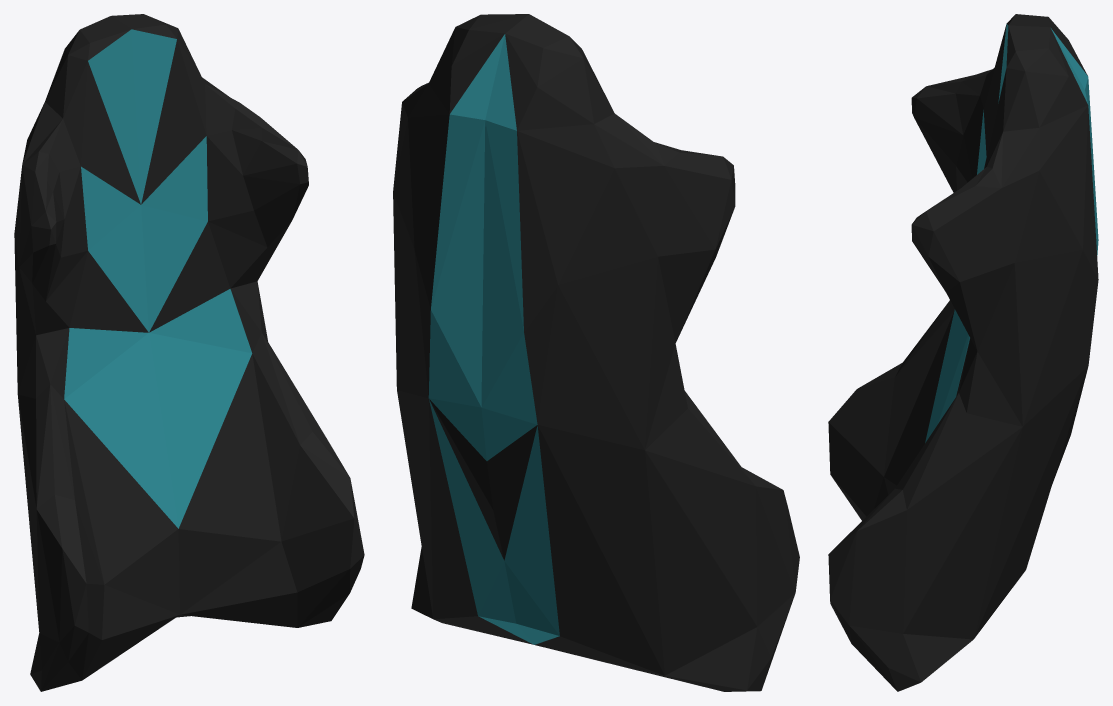
File: Gaming_Chair_Back_3.obj
The picture shows the model from 3 angles, left to right: view 1: azimuth 30°, elevation 25°; view 2: azimuth 150°, elevation 25°; view 3: azimuth 270°, elevation 25°; orthographic projection. The views are drawn at different scales.
Visible parts, largest first — view 1: Gaming_Chair_Back_3; view 2: Gaming_Chair_Back_3; view 3: Gaming_Chair_Back_3.
Boxes of the visible parts, x1=… form: Gaming_Chair_Back_3: x1=14, y1=14, x2=364, y2=691; Gaming_Chair_Back_3: x1=393, y1=14, x2=799, y2=691; Gaming_Chair_Back_3: x1=828, y1=14, x2=1098, y2=691.
Size of the model in its own units: 0.5617 by 1.05 by 0.4305.
